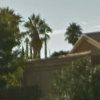Palm tree: (20, 6, 57, 60)
